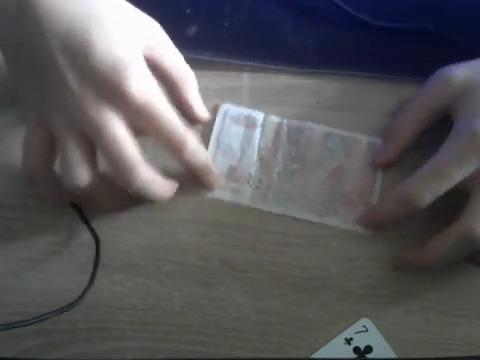5leva: (208, 103, 380, 233)
